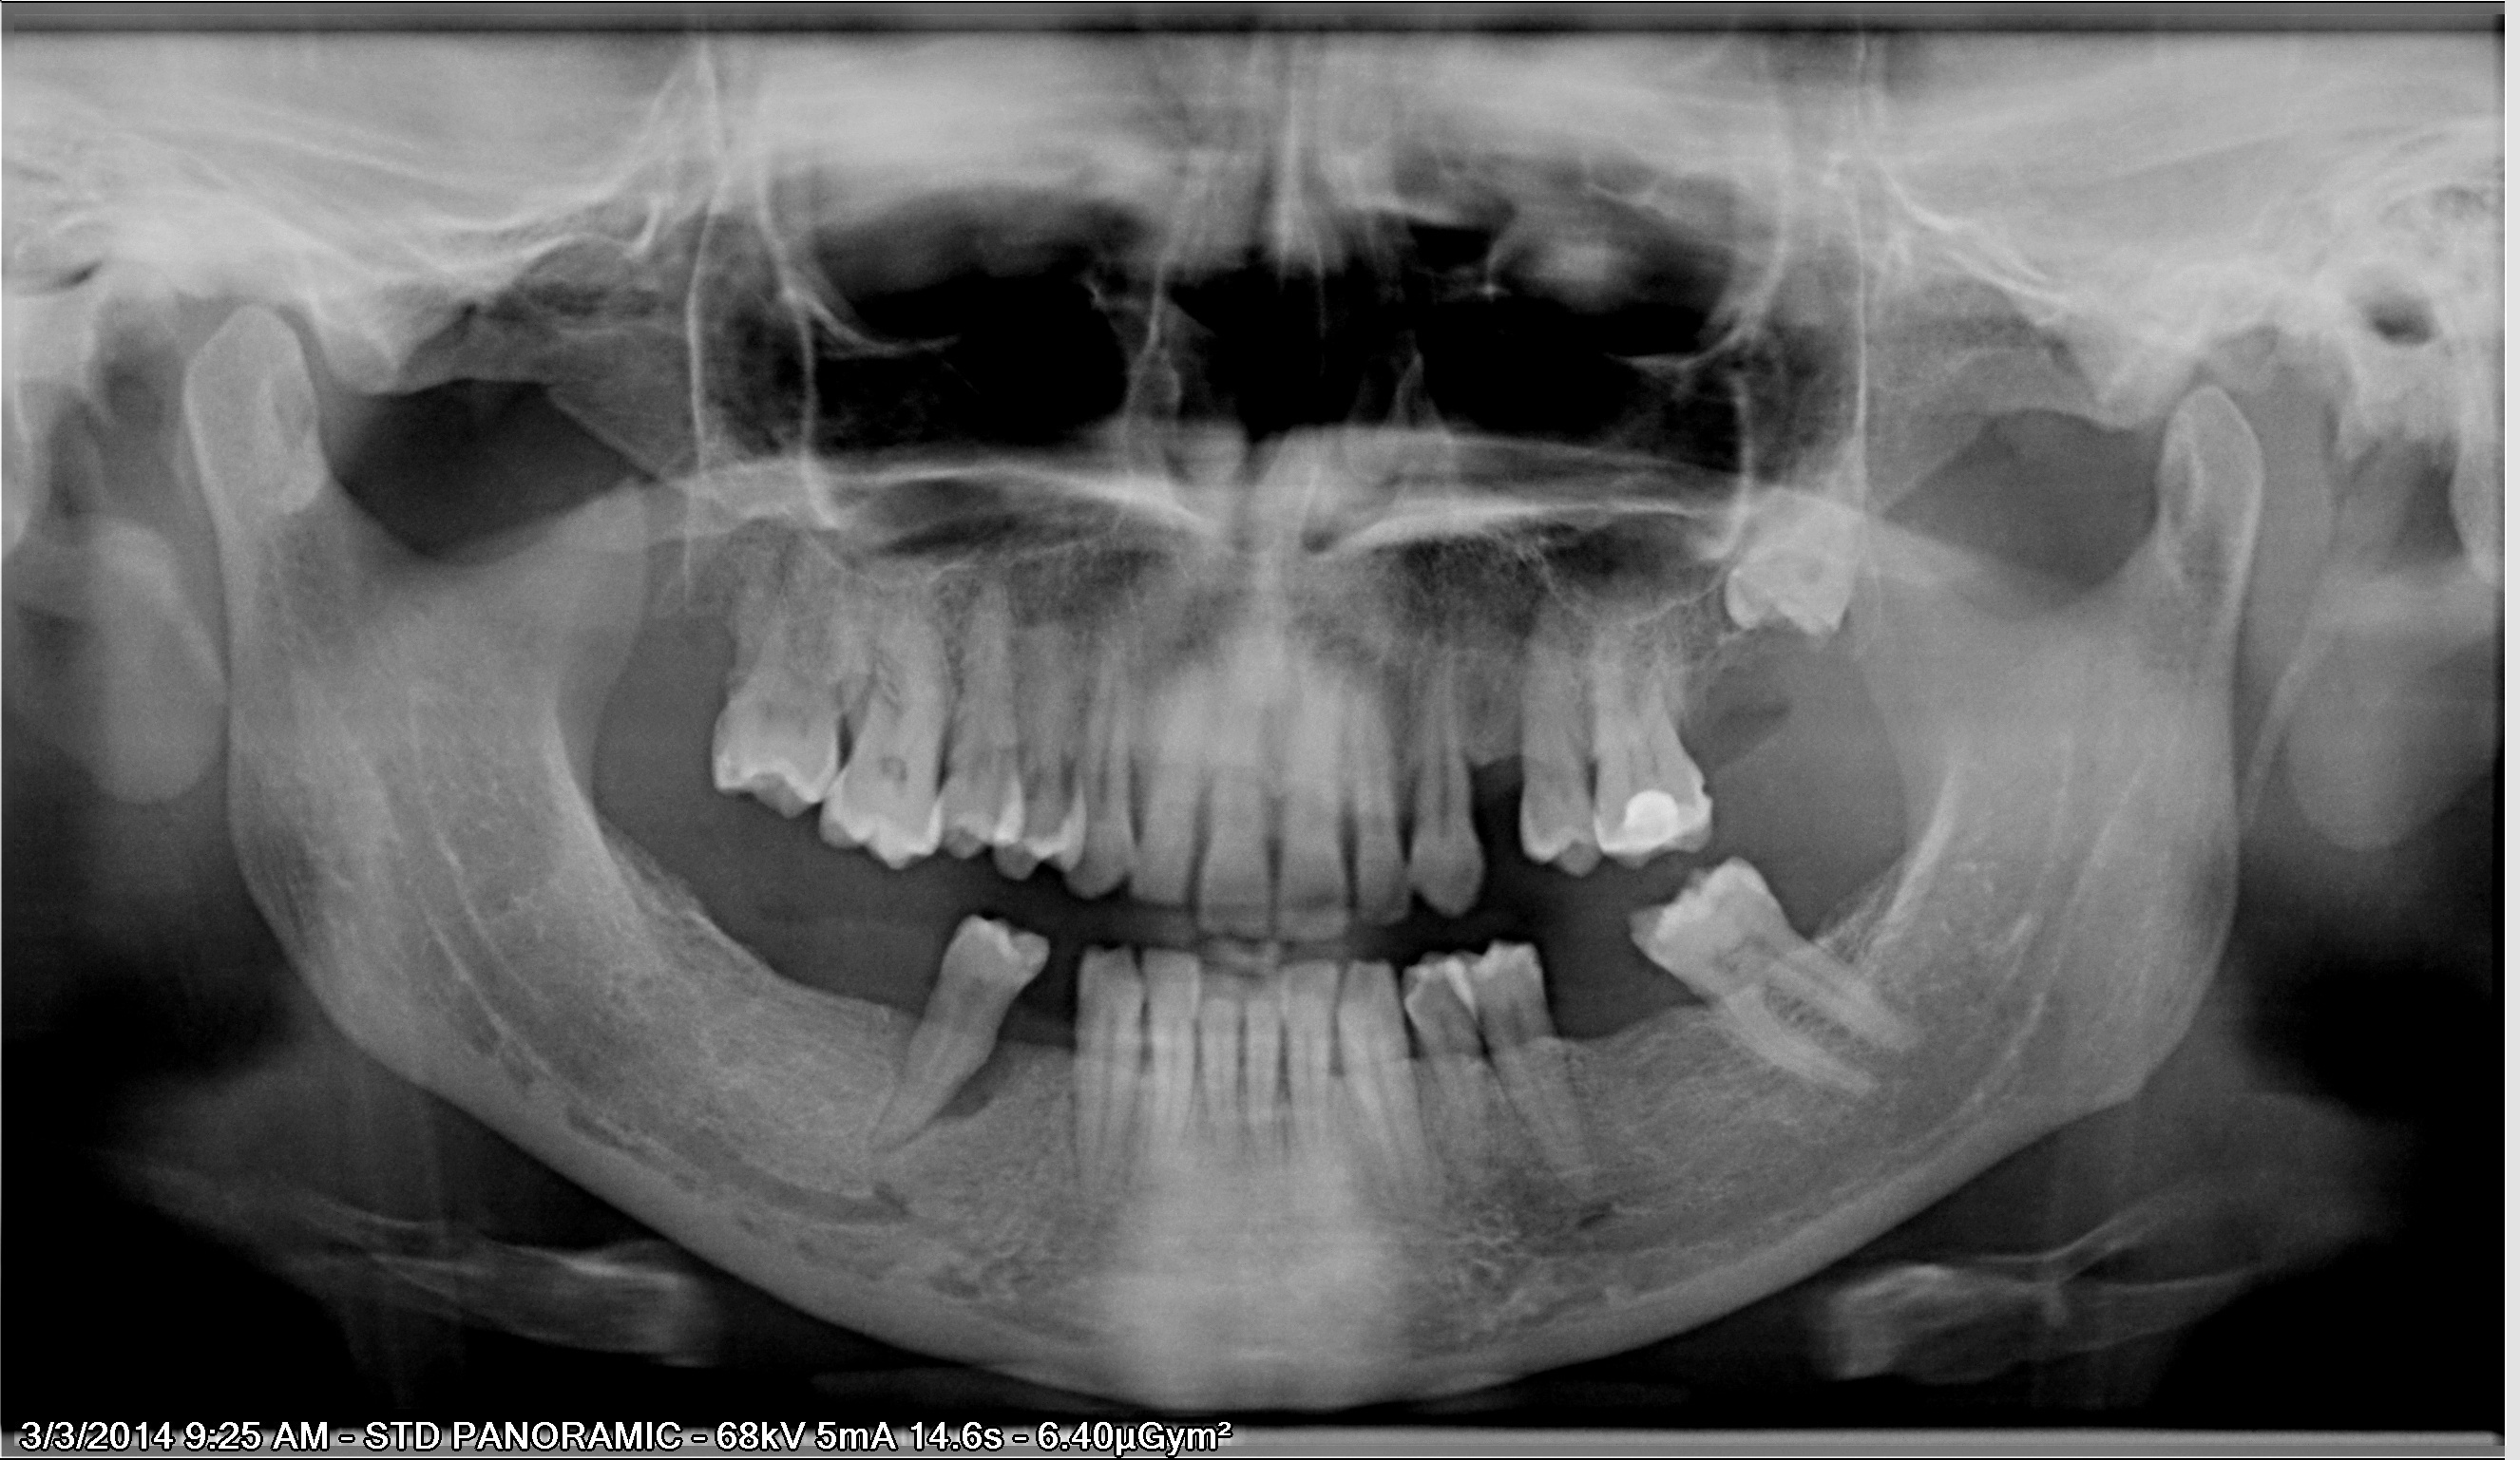BON: (876, 1006, 918, 1085)
CAR: (1701, 779, 1712, 800)
OBT: (1627, 789, 1679, 853)
